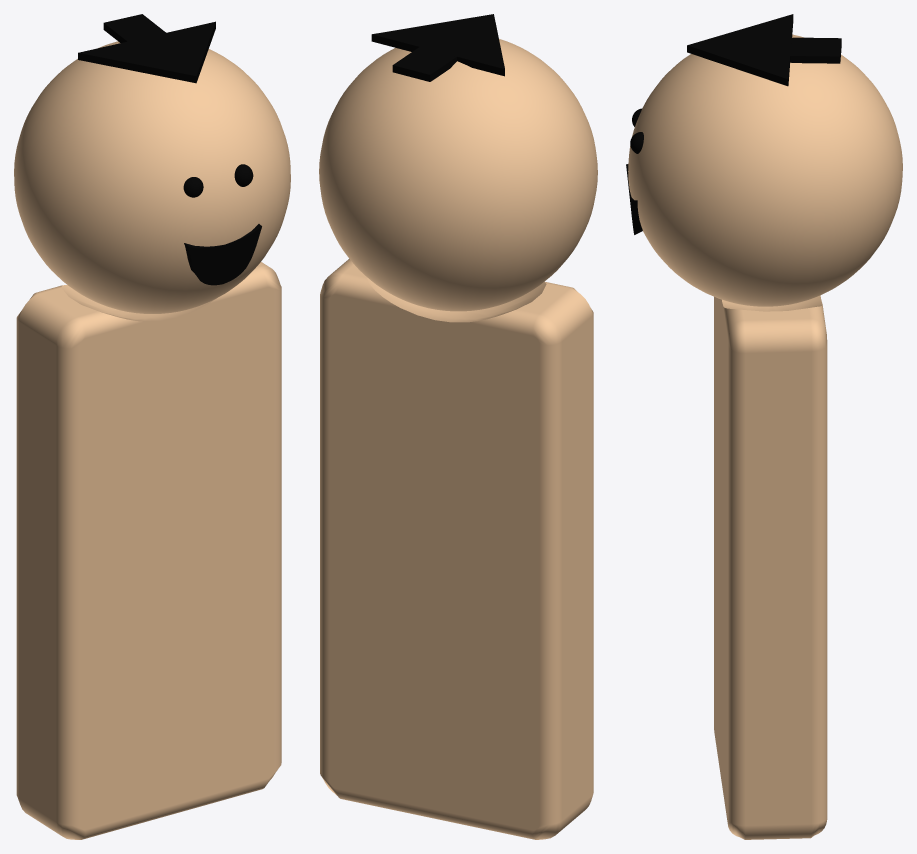
File: bhappy.obj
The picture shows the model from 3 angles, left to right: view 1: azimuth 30°, elevation 25°; view 2: azimuth 150°, elevation 25°; view 3: azimuth 270°, elevation 25°; orthographic projection.
Parts seen in each view (by area): view 1: 1_Curve.002_Curve.004, 5.002_Curve.002_Curve.003_5.002_Curve.002_Curve.004; view 2: 1_Curve.002_Curve.004, 5.002_Curve.002_Curve.003_5.002_Curve.002_Curve.004; view 3: 1_Curve.002_Curve.004, 5.002_Curve.002_Curve.003_5.002_Curve.002_Curve.004.
Part boxes in pixels (x1,y1,x2,y2): 1_Curve.002_Curve.004: (14, 41, 290, 839); 5.002_Curve.002_Curve.003_5.002_Curve.002_Curve.004: (78, 14, 261, 285); 1_Curve.002_Curve.004: (319, 39, 597, 839); 5.002_Curve.002_Curve.003_5.002_Curve.002_Curve.004: (371, 14, 504, 81); 1_Curve.002_Curve.004: (628, 34, 902, 839); 5.002_Curve.002_Curve.003_5.002_Curve.002_Curve.004: (626, 14, 841, 234).
Bounding box in the file's own units: 0.1661 × 0.4993 × 0.1674.
